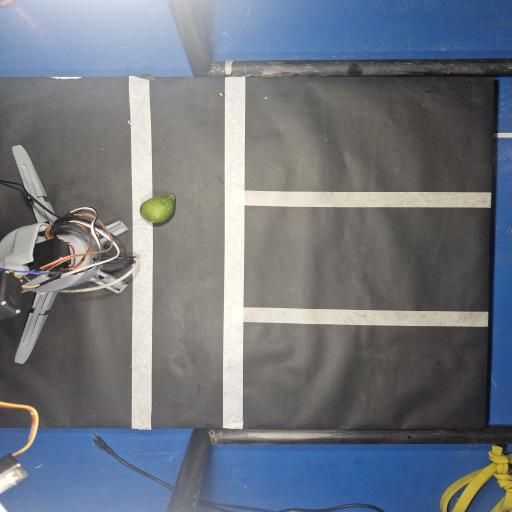higo: (140, 195, 175, 223)
